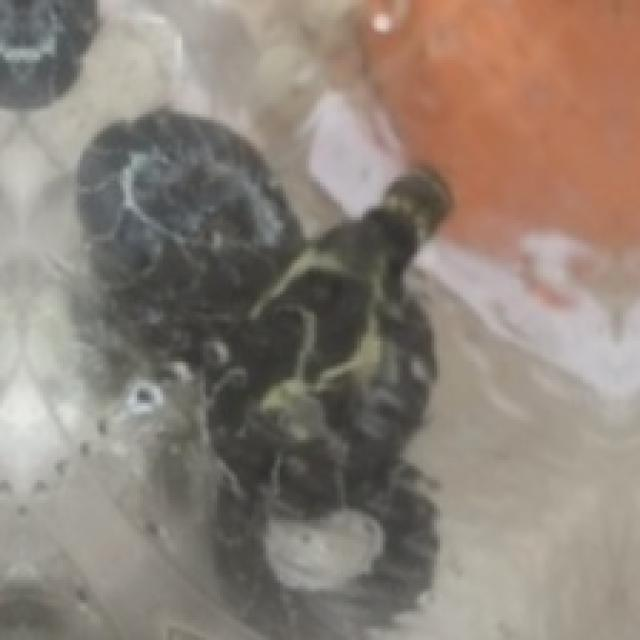king cobra: (77, 109, 449, 637)
